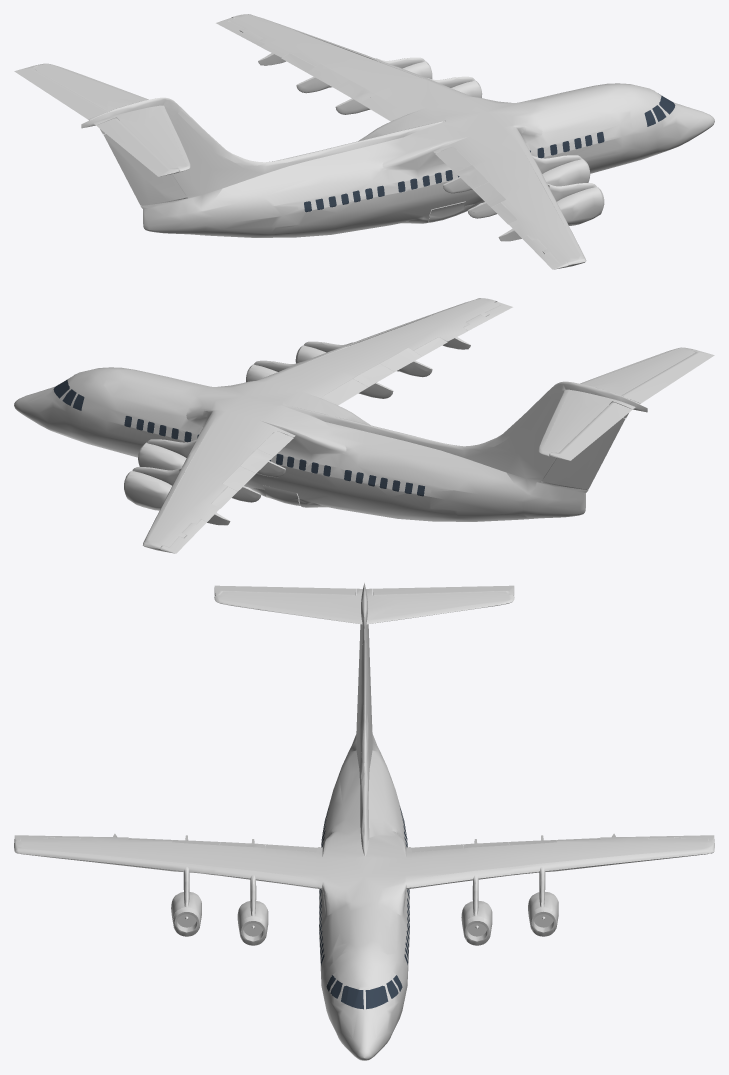
Rendered from bae146.glb.
3 views of the same model, one above another, from view 1: azimuth 30°, elevation 25°; view 2: azimuth 150°, elevation 25°; view 3: azimuth 270°, elevation 25° (orthographic). The views are drawn at different scales.
Visible parts, largest first — view 1: body, glass; view 2: body, glass; view 3: body, glass.
Boxes of the visible parts, x1,y1,x2,y2 form: body: [14, 14, 714, 269]; glass: [304, 93, 675, 212]; body: [14, 298, 714, 553]; glass: [53, 377, 424, 496]; body: [14, 582, 714, 1060]; glass: [319, 808, 409, 1009].
Size of the model in its own units: 2.2 by 0.5997 by 2.03.
